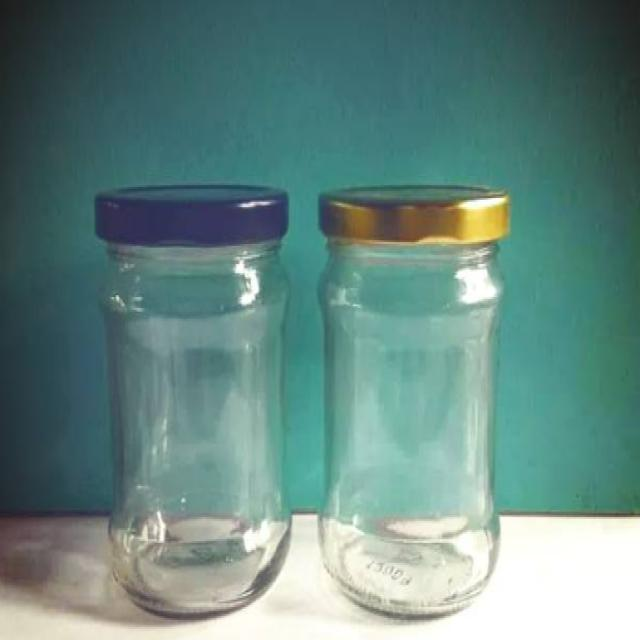ToplesKaca: (93, 180, 292, 620), (314, 182, 511, 618)
